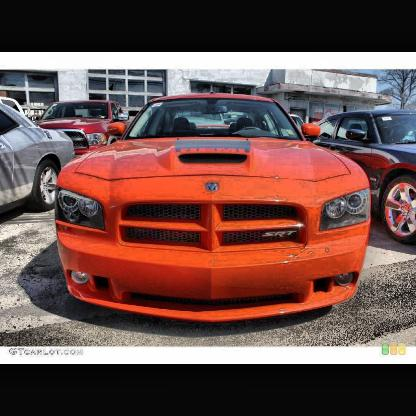Dodge Charger SRT-8 2009: (57, 95, 370, 324)
